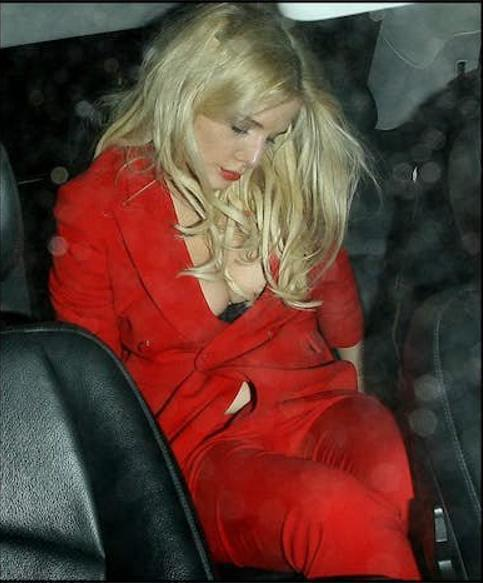Drunk: (199, 78, 292, 190)
